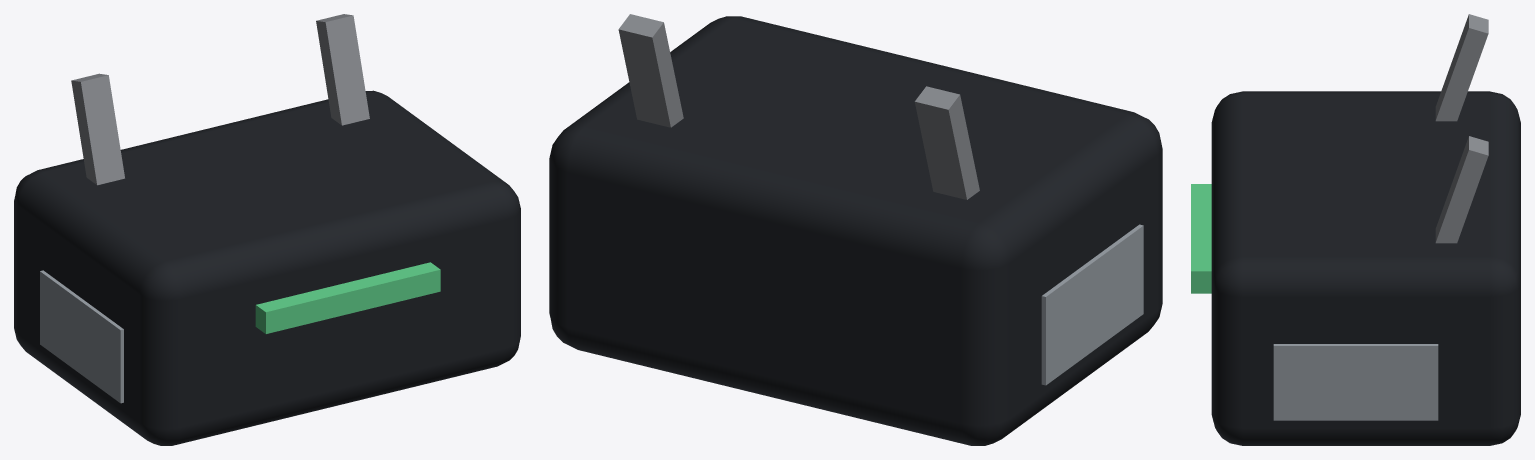
File: router-lite.glb
3 views of the same model, side by side, from view 1: azimuth 30°, elevation 25°; view 2: azimuth 150°, elevation 25°; view 3: azimuth 270°, elevation 25° (orthographic). The views are drawn at different scales.
Parts seen in each view (by area): view 1: material-0-body, material-3-metal, material-1-grating, material-2-screen; view 2: material-0-body, material-3-metal, material-1-grating; view 3: material-0-body, material-1-grating, material-3-metal, material-2-screen.
Part boxes in pixels (x1,y1,x2,y2): material-0-body: (14, 90, 520, 445); material-3-metal: (71, 14, 369, 185); material-1-grating: (40, 270, 123, 403); material-2-screen: (255, 262, 440, 333); material-0-body: (549, 16, 1162, 445); material-3-metal: (618, 14, 979, 199); material-1-grating: (1041, 224, 1143, 385); material-0-body: (1211, 91, 1520, 445); material-1-grating: (1273, 344, 1438, 420); material-3-metal: (1435, 14, 1488, 243); material-2-screen: (1191, 184, 1211, 293).
Bounding box in the file's own units: 0.22 × 0.15 × 0.16.
